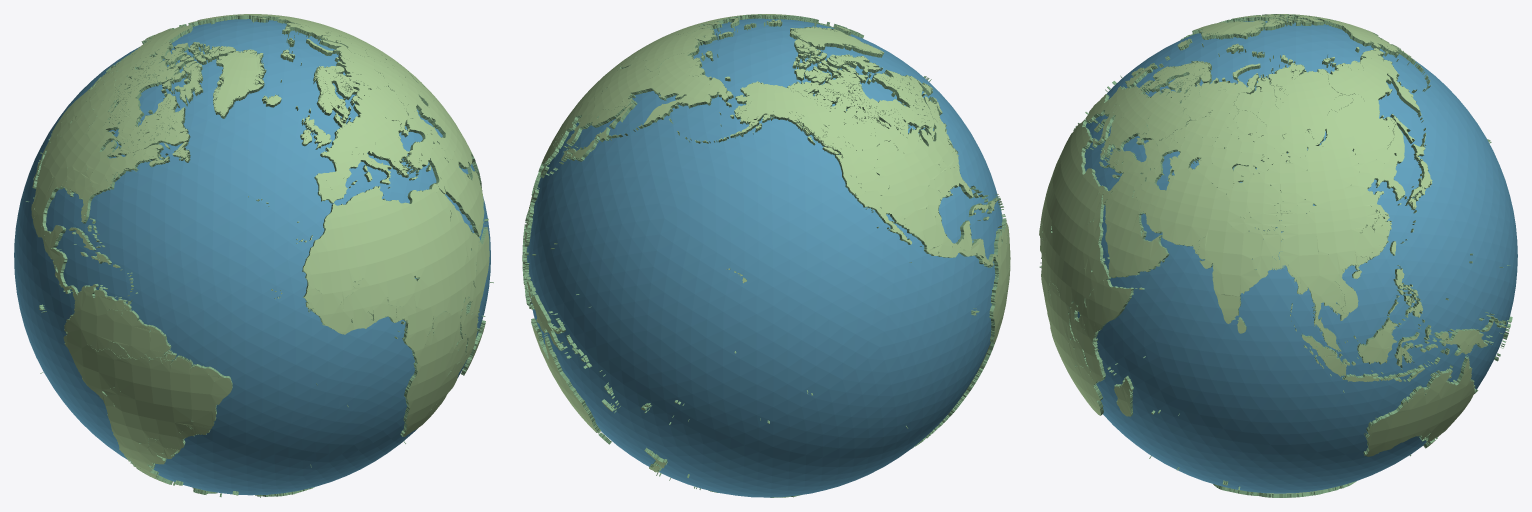
Rendered from earth.glb.
3 views of the same model, side by side, from view 1: azimuth 30°, elevation 25°; view 2: azimuth 150°, elevation 25°; view 3: azimuth 270°, elevation 25° (orthographic).
Visible parts, largest first — view 1: Ocean, Land, CoastWalls; view 2: Ocean, Land, CoastWalls; view 3: Ocean, Land, CoastWalls.
Boxes of the visible parts, x1=… form: Ocean: x1=14, y1=19, x2=490, y2=495; Land: x1=31, y1=14, x2=489, y2=495; CoastWalls: x1=26, y1=15, x2=493, y2=497; Ocean: x1=527, y1=18, x2=1002, y2=497; Land: x1=522, y1=14, x2=1010, y2=478; CoastWalls: x1=522, y1=14, x2=1007, y2=497; Ocean: x1=1077, y1=21, x2=1517, y2=493; Land: x1=1039, y1=14, x2=1507, y2=493; CoastWalls: x1=1039, y1=14, x2=1512, y2=497.
Size of the model in its own units: 2.03 by 2.03 by 2.01.
